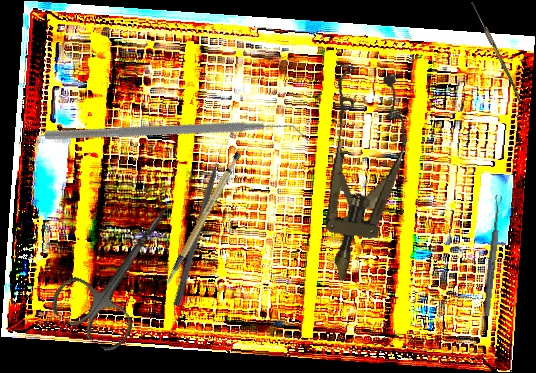Chopper: (41, 11, 312, 265)
Iris Scissors: (45, 182, 203, 357)
Pusher: (172, 142, 229, 307)
Scalpel Handle: (145, 150, 258, 285)
Speculum: (300, 61, 419, 289)
Surgical Spoon: (469, 0, 524, 103), (482, 194, 504, 317)
